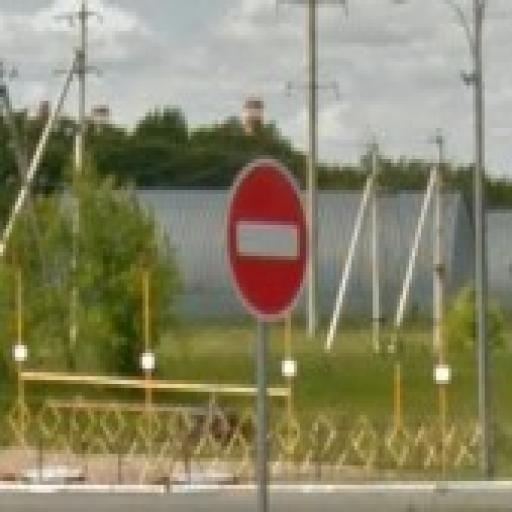traffic_sign: (222, 156, 313, 323)
